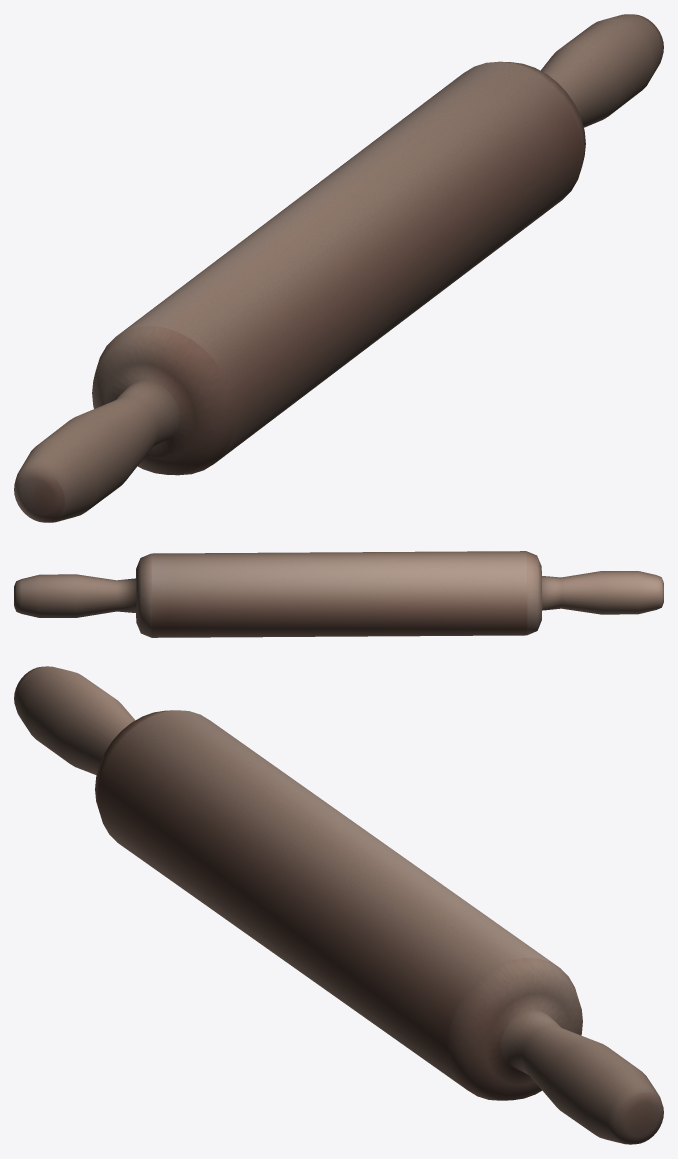
File: rolling pin 01.fbx
The picture shows the model from 3 angles, top to bottom: view 1: azimuth 30°, elevation 25°; view 2: azimuth 150°, elevation 25°; view 3: azimuth 270°, elevation 25°; orthographic projection. The views are drawn at different scales.
Parts seen in each view (by area): view 1: rolling pin 01; view 2: rolling pin 01; view 3: rolling pin 01.
Part boxes in pixels (left/top/right/bottom): rolling pin 01: left=14, top=14, right=663, bottom=522; rolling pin 01: left=14, top=551, right=663, bottom=637; rolling pin 01: left=14, top=666, right=663, bottom=1144.
Bounding box in the file's own units: 861 × 128 × 540.
